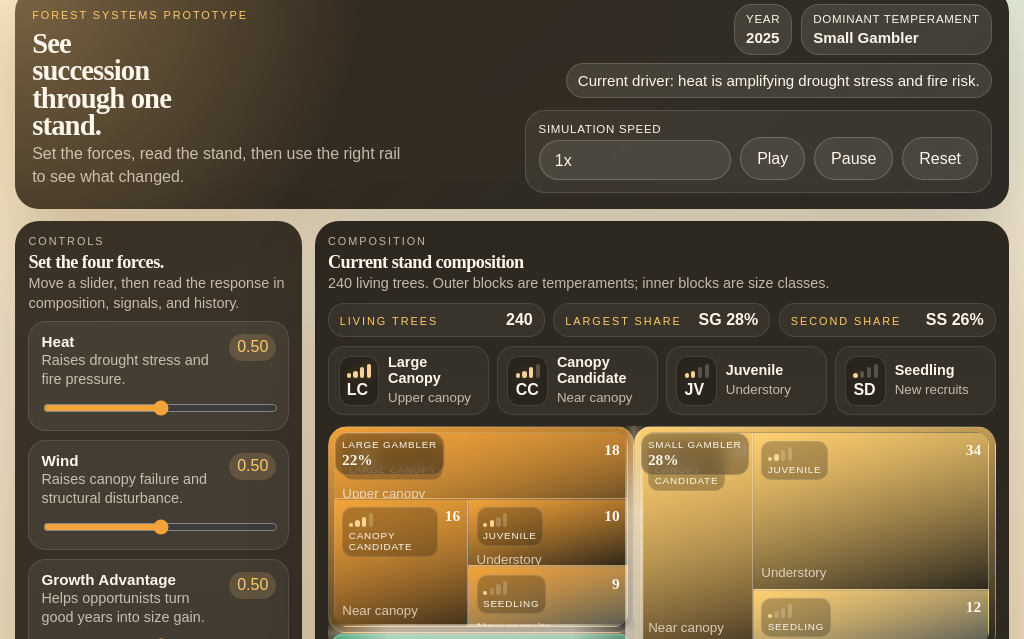
Test: Forest systems prototype app › updates node values live when a control changes
Set the slider labelled "Heat" to "1": (270, 408) [44,400,278,416]
(page scrolled)
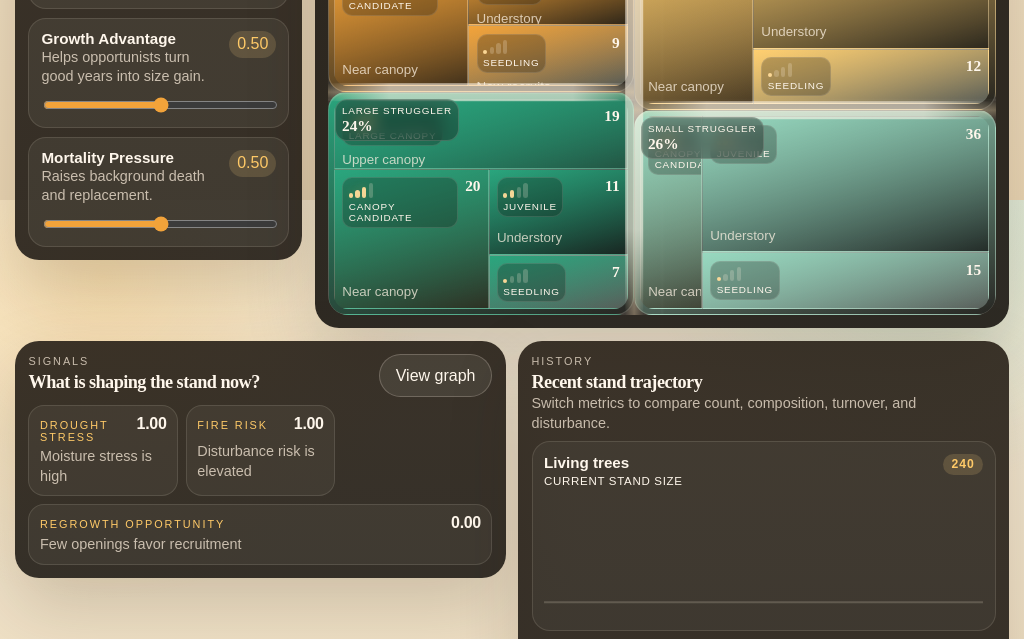
Expected: the element with test id "node-fireRisk" does not show "0.00", [186,405,335,496]
Result: the element with test id "node-droughtStress" shows "1.00" at [137,415,166,432]
